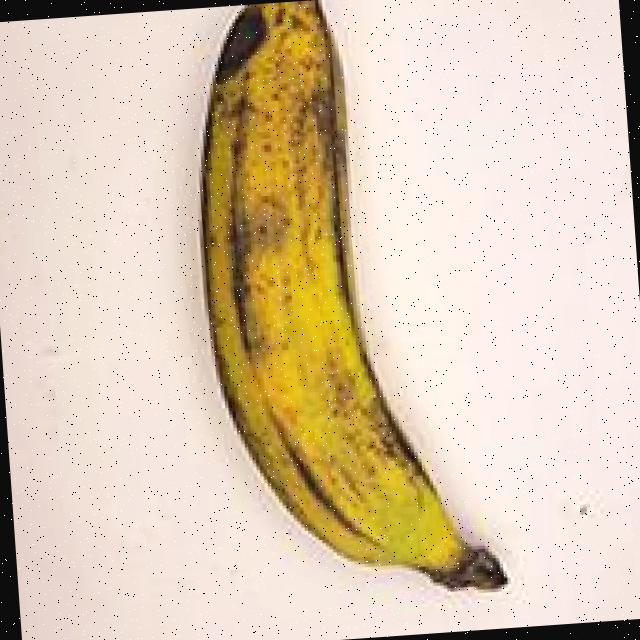Overripe: (143, 0, 543, 633)
